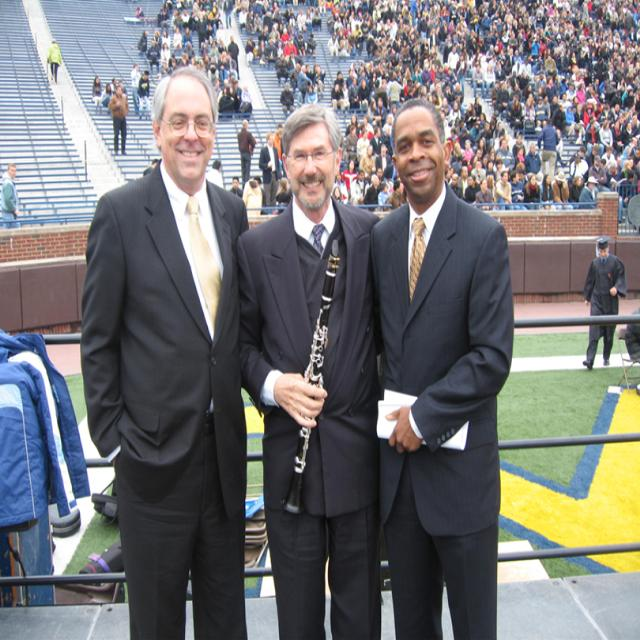clarinet: (278, 233, 343, 520)
